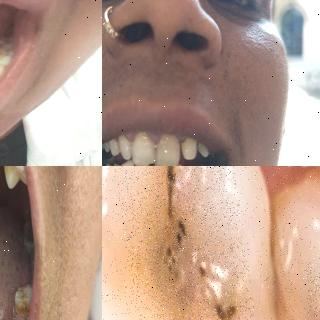Gum Swelling: (146, 130, 164, 144), (124, 127, 137, 143), (176, 134, 188, 144)
cavities: (102, 166, 250, 320), (14, 294, 32, 312)
plaque: (129, 132, 157, 166), (155, 132, 179, 161)
stains: (0, 166, 22, 184)
